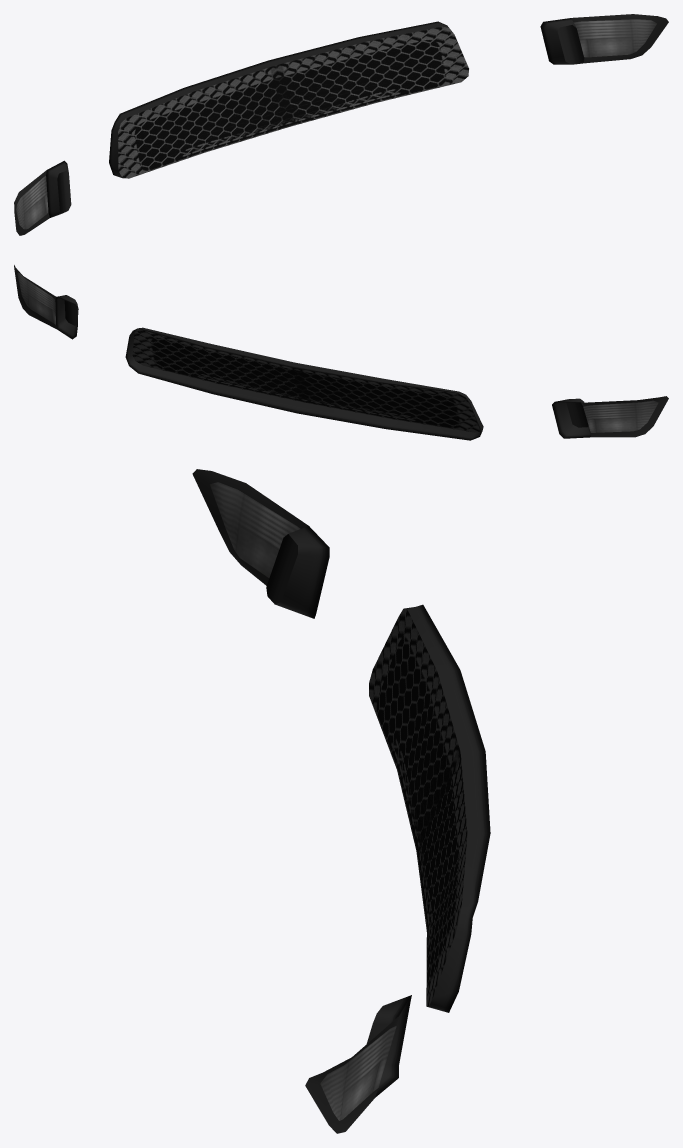
The model's file is tozzo98_bumperstock_front_inner_ucb_bottom_lt_0.004_lev3.glb.
The picture shows the model from 3 angles, top to bottom: view 1: azimuth 30°, elevation 25°; view 2: azimuth 150°, elevation 25°; view 3: azimuth 270°, elevation 25°; orthographic projection. The views are drawn at different scales.
Parts seen in each view (by area): view 1: tozzo98_bumperstock_front_inner_ucb_bottom_lt_0.004_lev3; view 2: tozzo98_bumperstock_front_inner_ucb_bottom_lt_0.004_lev3; view 3: tozzo98_bumperstock_front_inner_ucb_bottom_lt_0.004_lev3.
Part boxes in pixels (x1,y1,x2,y2): tozzo98_bumperstock_front_inner_ucb_bottom_lt_0.004_lev3: (14, 14, 668, 235); tozzo98_bumperstock_front_inner_ucb_bottom_lt_0.004_lev3: (14, 265, 668, 440); tozzo98_bumperstock_front_inner_ucb_bottom_lt_0.004_lev3: (192, 469, 490, 1133).
Bounding box in the file's own units: 1.51 × 0.1198 × 0.3106.
Materials: 1 (1 with a texture image).
